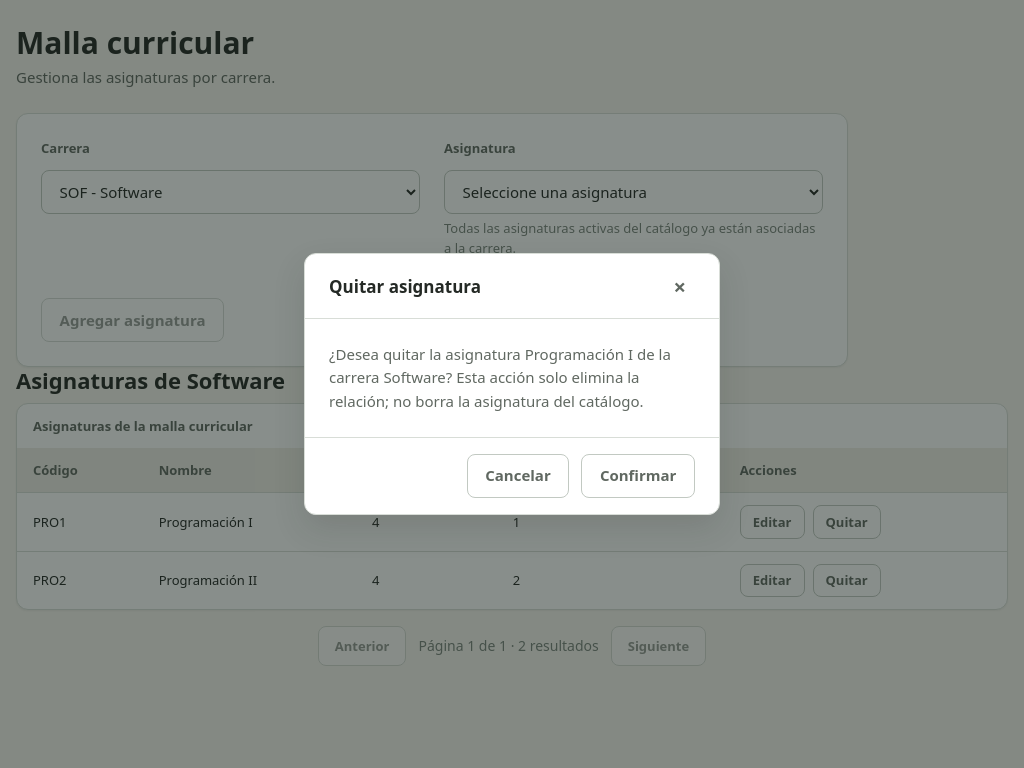
Test: GestionMallaComponent › muestra error sin retirar visualmente la relación si falla
Step 1. Click the button "Confirmar" → (638, 476), box [581,454,695,498]
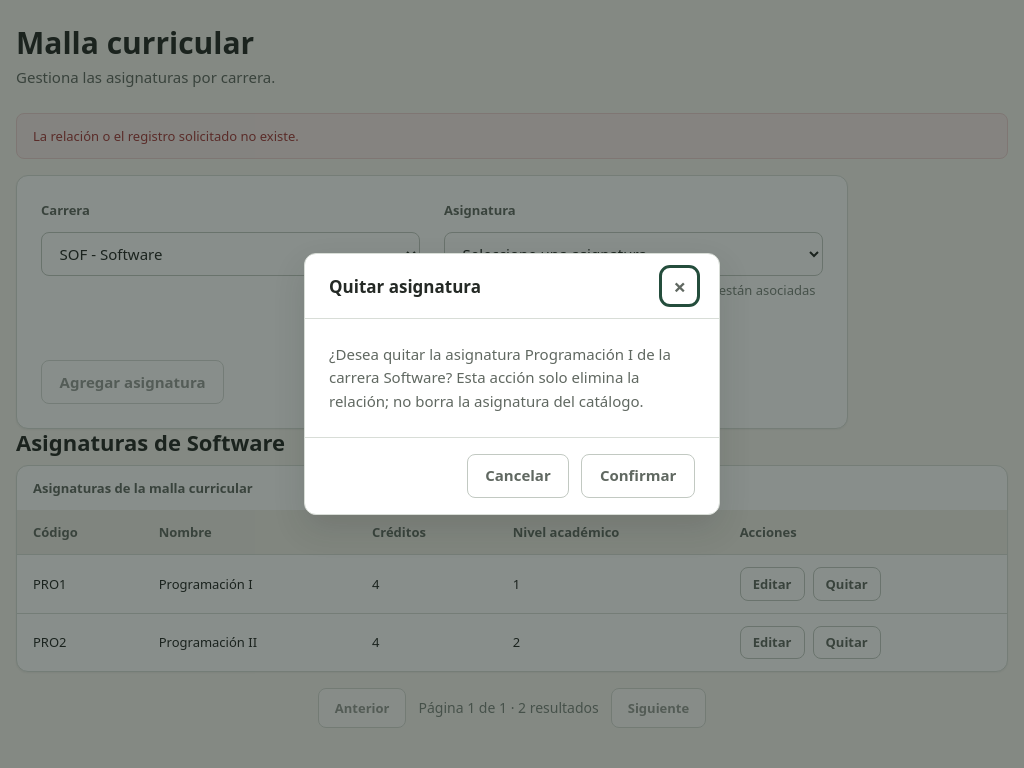
Expected: the text "Programación I" is shown, [143,555,356,613]
Expected: the text "La relación o el registro solicitado no existe." is shown, [16,113,1008,159]
